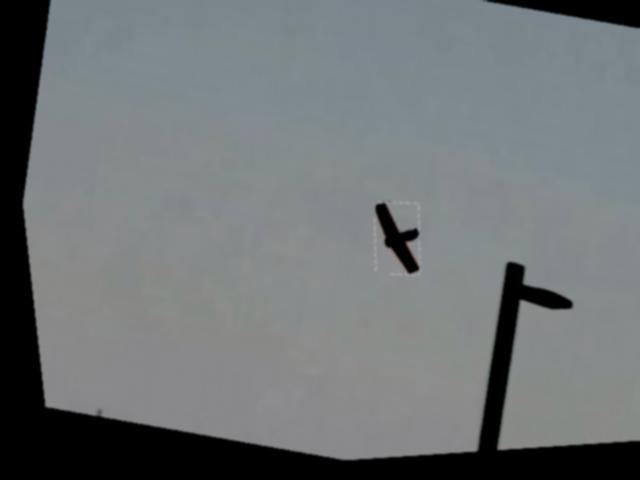insansiz-hava-araci: (354, 201, 427, 287)
